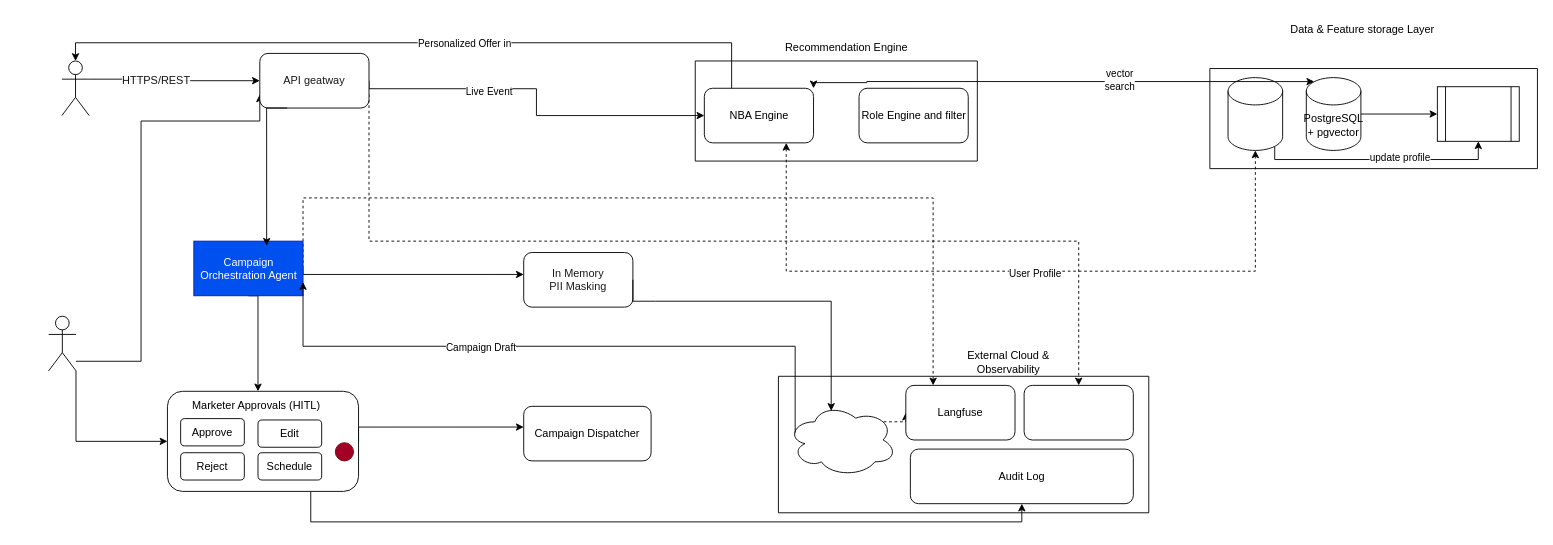
This 1553x545 diagram has some shape labels left out. The shapes that lost their labels are listed below. From the top down, each one's centre as x and y in pixels, then its label:
[75,88]: user / client
[1255,113]: Redis in-memory
[1477,113]: offline batch cron
[62,343]: Marketing Manager
[1078,412]: Sentry & Loki
[344,451]: Kill
[842,439]: Cloud LLM ZDR Enforced
